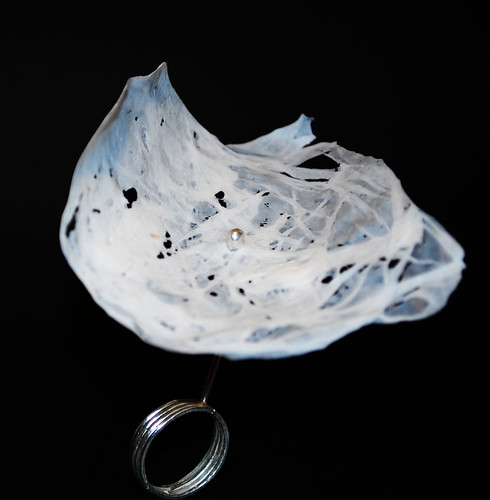plastic bag: (56, 60, 466, 361)
